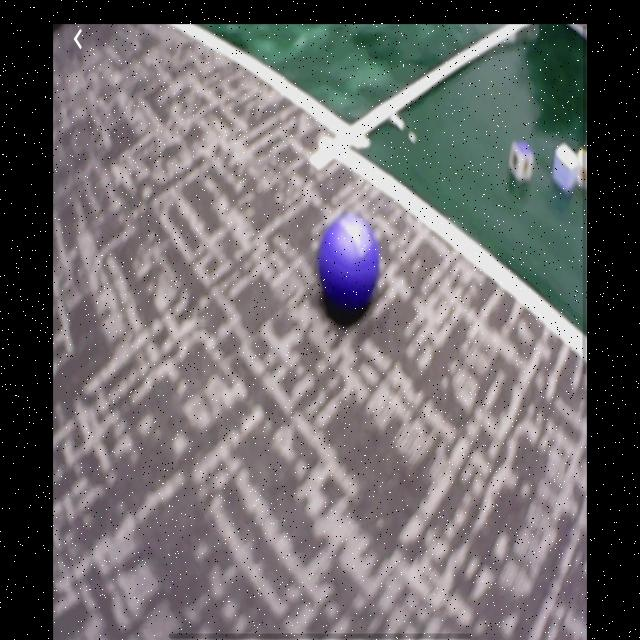ball: (319, 213, 381, 319)
